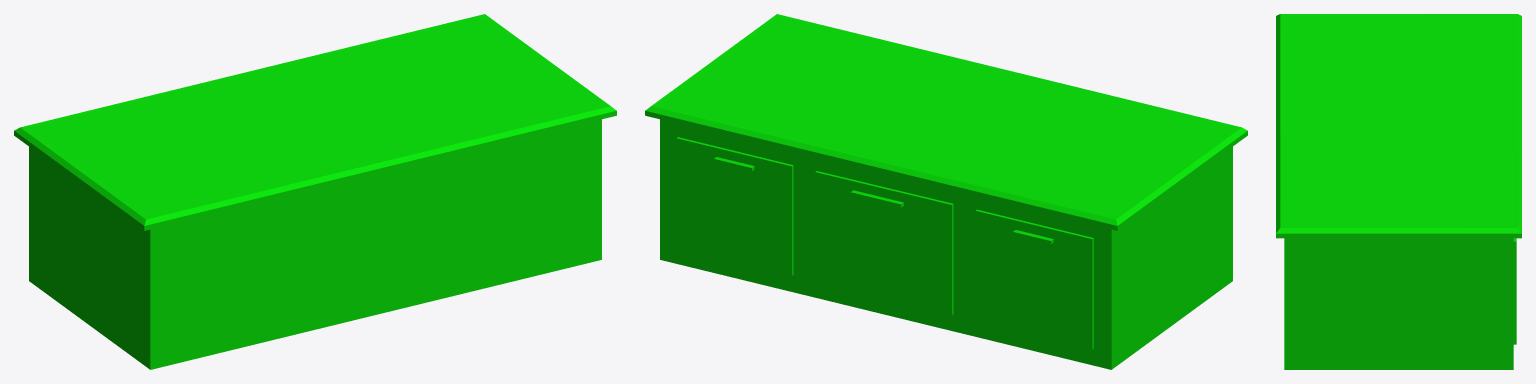
File: MesaMueble01.fbx
3 views of the same model, side by side, from view 1: azimuth 30°, elevation 25°; view 2: azimuth 150°, elevation 25°; view 3: azimuth 270°, elevation 25° (orthographic). The views are drawn at different scales.
Visible parts, largest first — view 1: pCube266; view 2: pCube266; view 3: pCube266.
Part boxes in pixels (left/top/right/bottom): pCube266: left=14, top=14, right=616, bottom=369; pCube266: left=645, top=14, right=1247, bottom=369; pCube266: left=1276, top=14, right=1521, bottom=369.
Bounding box in the file's own units: 2.09 × 0.6505 × 0.9996.
